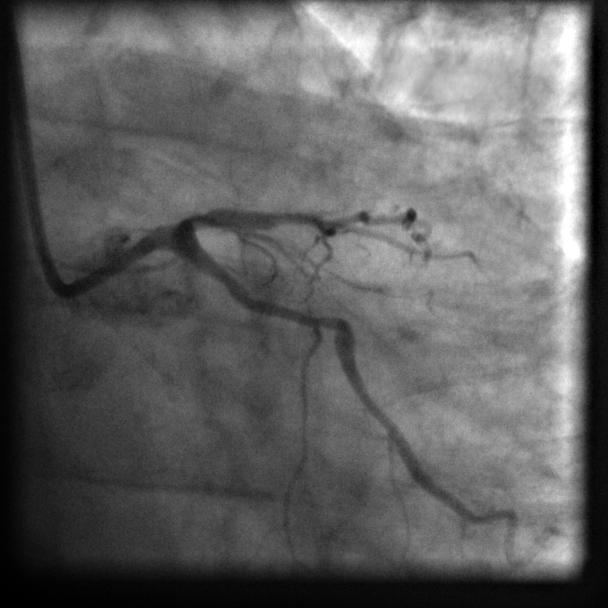Stenosis: (254, 290, 335, 336)
